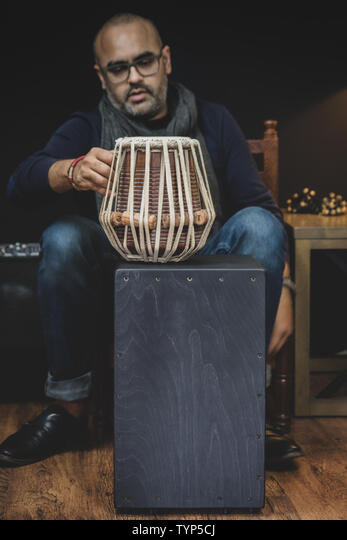tabla: (103, 138, 214, 265)
